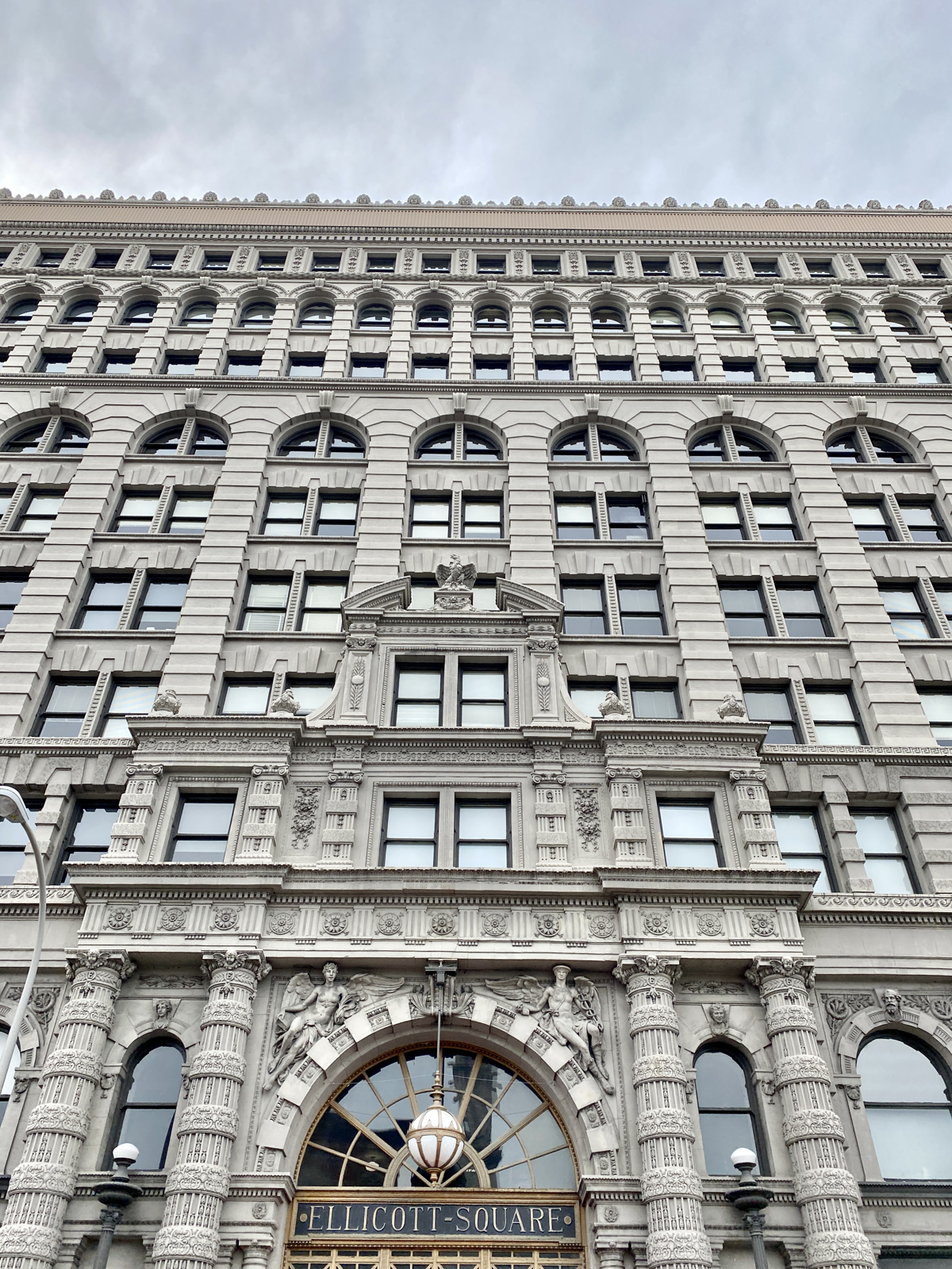fachada: (4, 198, 952, 1269)
